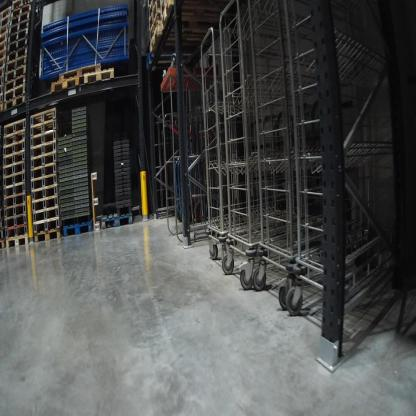pallet: (160, 2, 254, 29), (148, 25, 214, 52), (55, 58, 104, 82), (100, 205, 134, 232), (27, 126, 61, 147), (64, 219, 93, 242), (49, 76, 80, 97), (82, 66, 114, 86), (27, 140, 57, 161), (26, 120, 59, 139), (28, 106, 59, 126), (91, 167, 100, 234), (29, 163, 59, 183), (32, 226, 61, 246), (31, 212, 61, 231), (33, 183, 61, 203), (29, 189, 60, 207), (6, 43, 31, 65), (29, 153, 60, 170), (34, 203, 60, 223), (5, 21, 32, 40), (3, 192, 28, 212), (4, 65, 30, 84), (7, 28, 30, 49), (5, 72, 30, 91), (4, 235, 30, 253), (3, 182, 27, 201), (2, 163, 26, 182), (28, 174, 58, 189), (5, 37, 30, 55), (4, 85, 30, 102), (5, 202, 26, 223), (8, 55, 30, 75), (3, 114, 26, 133), (3, 214, 28, 230), (2, 152, 25, 169), (2, 173, 26, 189), (2, 132, 26, 148), (4, 94, 26, 111), (3, 223, 29, 237), (3, 143, 25, 159), (148, 3, 162, 28), (149, 12, 161, 41), (9, 12, 30, 27), (9, 2, 36, 11), (10, 7, 31, 18), (0, 2, 12, 21), (159, 1, 169, 20), (147, 2, 158, 18), (0, 21, 9, 36), (1, 16, 12, 27), (0, 30, 8, 44), (1, 40, 8, 53), (0, 49, 6, 59), (0, 58, 5, 67), (1, 240, 4, 251), (1, 230, 4, 241), (1, 74, 4, 85), (1, 66, 3, 77), (1, 88, 3, 98), (1, 98, 3, 108)
